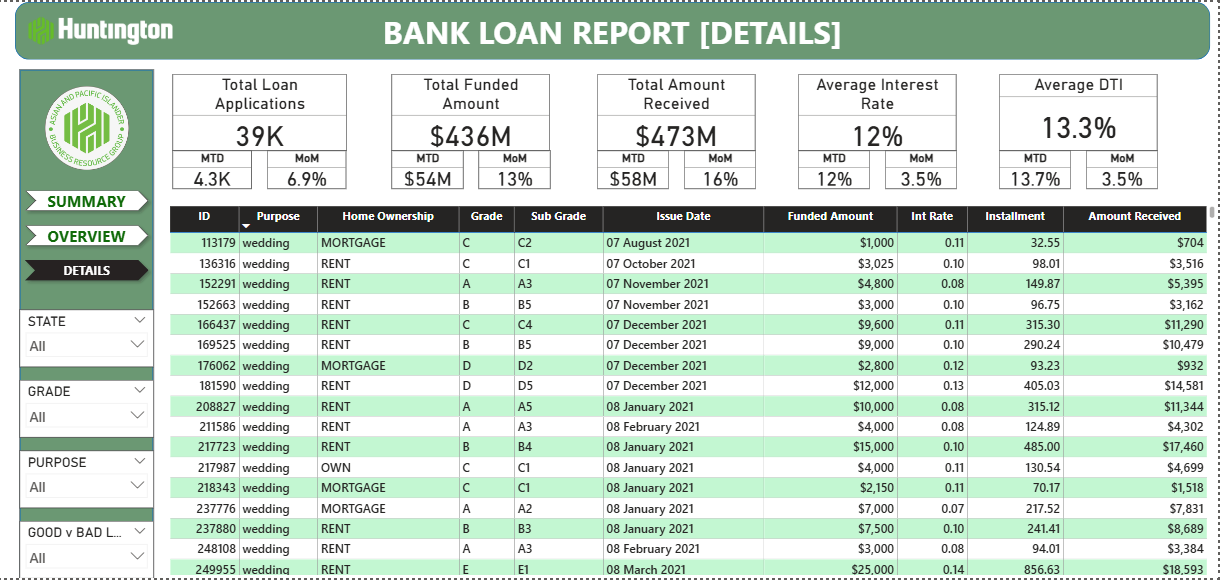

The page's visual inventory and layout, read from the dashboard file:
{"tool":"powerbi","page":{"name":"DETAILS","canvas":[2030,960],"ordinal":2},"visuals":[{"type":"shape","box":[24,0,1992,96],"z":0},{"type":"card","title":"Total Loan Applications","fields":{"Values":["bank bank_loan_data.Total Loan Applications"]},"box":[288,120,290.4,128],"z":0,"group":"g1"},{"type":"card","title":"Total Funded Amount","fields":{"Values":["bank bank_loan_data.Total Funded Amount"]},"box":[653,120,264,128],"z":0,"group":"g2"},{"type":"card","title":"Total Amount Received","fields":{"Values":["bank bank_loan_data.Total Amount Received"]},"box":[994,120,264,128],"z":0,"group":"g3"},{"type":"card","title":"Average Interest Rate","fields":{"Values":["bank bank_loan_data.Avg Interest Rate"]},"box":[1329,120,264,128],"z":0,"group":"g4"},{"type":"card","title":"Average DTI","fields":{"Values":["bank bank_loan_data.Avg DTI"]},"box":[1665.4,120,264,128],"z":0,"group":"g5"},{"type":"shape","box":[32,112,224,848],"z":1000,"group":"g8"},{"type":"card","title":"MTD","fields":{"Values":["bank bank_loan_data.MTD Loan Applications"]},"box":[288,248,132,64],"z":1000,"group":"g1"},{"type":"card","title":"MTD","fields":{"Values":["bank bank_loan_data.MTD Funded Amount"]},"box":[653,248,120,64],"z":1000,"group":"g2"},{"type":"card","title":"MTD","fields":{"Values":["bank bank_loan_data.MTD Total Amount Received"]},"box":[994,248,120,64],"z":1000,"group":"g3"},{"type":"card","title":"MTD","fields":{"Values":["bank bank_loan_data.MTD Avg Int Rate"]},"box":[1329,248,120,64],"z":1000,"group":"g4"},{"type":"card","title":"MTD","fields":{"Values":["bank bank_loan_data.MTD Avg DTI"]},"box":[1665.4,248,120,64],"z":1000,"group":"g5"},{"type":"group","id":"g1","title":"Group 1","box":[288,120,264,192],"z":2000},{"type":"card","title":"MoM","fields":{"Values":["bank bank_loan_data.MoM Loan Applications"]},"box":[446.4,248,132,64],"z":2000,"group":"g1"},{"type":"card","title":"MoM","fields":{"Values":["bank bank_loan_data.MoM Total Funded Amount"]},"box":[797,248,120,64],"z":2000,"group":"g2"},{"type":"card","title":"MoM","fields":{"Values":["bank bank_loan_data.MoM Total Amount Received"]},"box":[1138,248,120,64],"z":2000,"group":"g3"},{"type":"card","title":"MoM","fields":{"Values":["bank bank_loan_data.MoM Avg Int Rate"]},"box":[1473,248,120,64],"z":2000,"group":"g4"},{"type":"card","title":"MoM","fields":{"Values":["bank bank_loan_data.MoM Avg Int Rate"]},"box":[1809.4,248,120,64],"z":2000,"group":"g5"},{"type":"group","id":"g2","title":"Group 1","box":[653,120,264,192],"z":3000},{"type":"group","id":"g3","title":"Group 1","box":[994,120,264,192],"z":4000},{"type":"group","id":"g4","title":"Group 1","box":[1329,120,264,192],"z":5000},{"type":"group","id":"g5","title":"Group 1","box":[1665.4,120,264,192],"z":6000},{"type":"tableEx","fields":{"Values":["bank bank_loan_data.id","bank bank_loan_data.purpose","bank bank_loan_data.home_ownership","bank bank_loan_data.grade","bank bank_loan_data.sub_grade","bank bank_loan_data.issue_date","bank bank_loan_data.Total Funded Amount","Sum(bank bank_loan_data.int_rate)","Sum(bank bank_loan_data.installment)","bank bank_loan_data.Total Amount Received"]},"box":[278,336,1752,624],"z":7000},{"type":"image","box":[48,0,240,96],"z":8000},{"type":"slicer","fields":{"Values":["bank bank_loan_data.address_state"]},"box":[32,512,224,96],"z":11000,"group":"g8"},{"type":"group","id":"g6","title":"Group 4","box":[32,112,224,848],"z":13000},{"type":"slicer","title":"GRADE","fields":{"Values":["bank bank_loan_data.grade"]},"box":[32,629,224,96],"z":13000,"group":"g8"},{"type":"group","id":"g7","title":"Group 2","box":[32,112,224,848],"z":13001,"group":"g6"},{"type":"slicer","title":"GRADE","fields":{"Values":["bank bank_loan_data.purpose"]},"box":[32,748,224,96],"z":14000,"group":"g8"},{"type":"image","box":[32,136,224,145],"z":16000,"group":"g8"},{"type":"pageNavigator","box":[32,304,224,169],"z":17000,"group":"g8"},{"type":"group","id":"g8","title":"Group 3","box":[32,112,224,848],"z":17001,"group":"g7"},{"type":"slicer","title":"GRADE","fields":{"Values":["bank bank_loan_data.Good v Bad Loan"]},"box":[32,864,224,96],"z":17501,"group":"g7"}]}

Visuals, with their boxes in screenshot pixels (x1, y1, x2, y2), scaled from the page's 2030x960 canvas onto the 1220x580 screenshot:
shape: 14/0/1212/58
"Total Loan Applications" card: 173/72/348/150
"Total Funded Amount" card: 392/72/551/150
"Total Amount Received" card: 597/72/756/150
"Average Interest Rate" card: 799/72/957/150
"Average DTI" card: 1001/72/1160/150
shape: 19/68/154/579
"MTD" card: 173/150/252/188
"MTD" card: 392/150/465/188
"MTD" card: 597/150/669/188
"MTD" card: 799/150/871/188
"MTD" card: 1001/150/1073/188
"Group 1" group: 173/72/332/188
"MoM" card: 268/150/348/188
"MoM" card: 479/150/551/188
"MoM" card: 684/150/756/188
"MoM" card: 885/150/957/188
"MoM" card: 1087/150/1160/188
"Group 1" group: 392/72/551/188
"Group 1" group: 597/72/756/188
"Group 1" group: 799/72/957/188
"Group 1" group: 1001/72/1160/188
tableEx - bank bank_loan_data.id x bank bank_loan_data.purpose: 167/203/1219/579
image: 29/0/173/58
slicer - bank bank_loan_data.address_state: 19/309/154/367
"Group 4" group: 19/68/154/579
"GRADE" slicer: 19/380/154/438
"Group 2" group: 19/68/154/579
"GRADE" slicer: 19/452/154/510
image: 19/82/154/170
pageNavigator: 19/184/154/286
"Group 3" group: 19/68/154/579
"GRADE" slicer: 19/522/154/579
